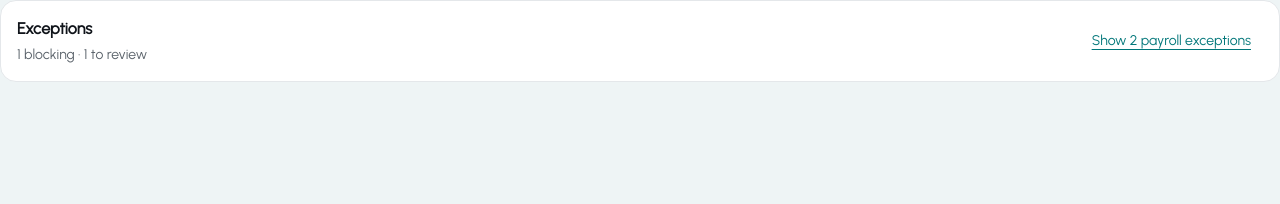
Scenario: PayrollExceptionsPanel › defers exception bodies until the user expands the summary
The image size is (1280, 204).
Expected: the text "Compensation missing" is not shown
Click the button "Show 2 payroll exceptions" at (1171, 41), box left=1080, top=23, right=1263, bottom=59
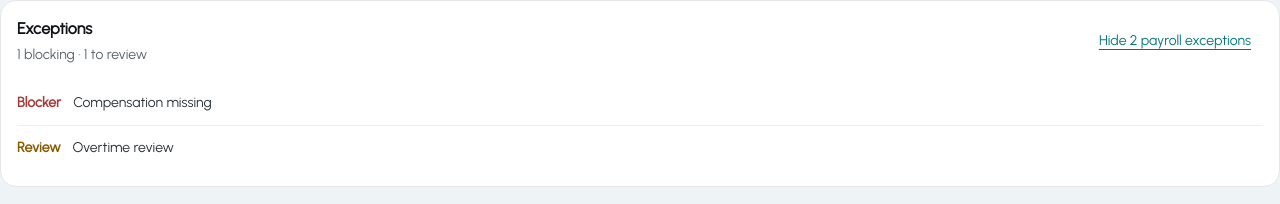
Now the text "Compensation missing" is shown, box left=73, top=93, right=212, bottom=113
Now the text "Overtime review" is shown, box left=72, top=138, right=174, bottom=158
